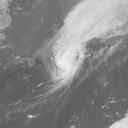cyclone: (50, 16, 88, 82)
